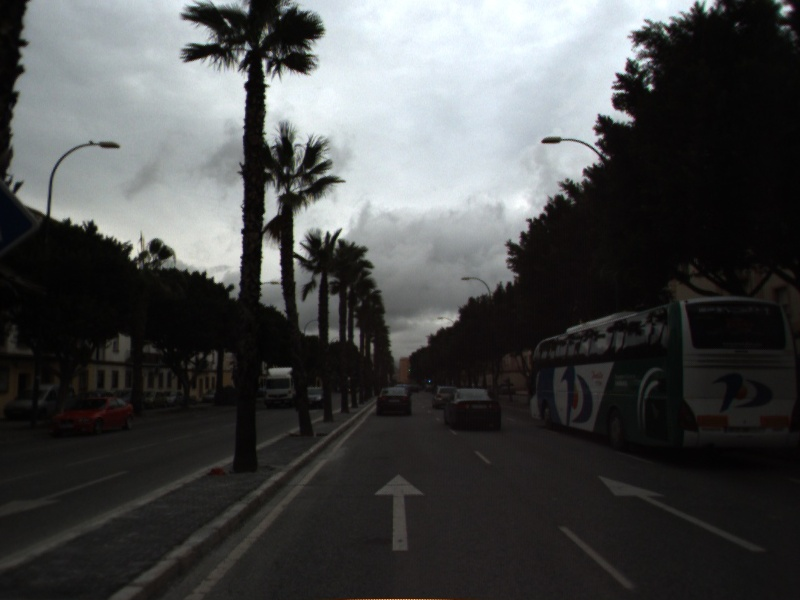STRAIGHT: (596, 473, 768, 554), (372, 471, 428, 552)
